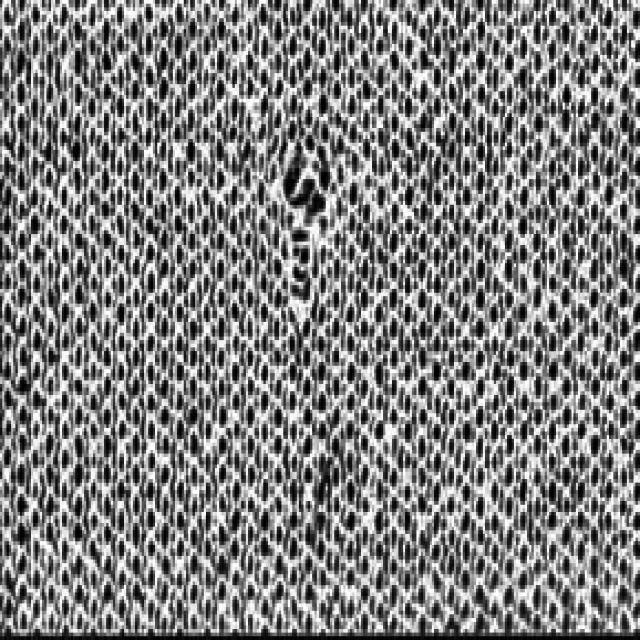Hole: (269, 129, 343, 361)
